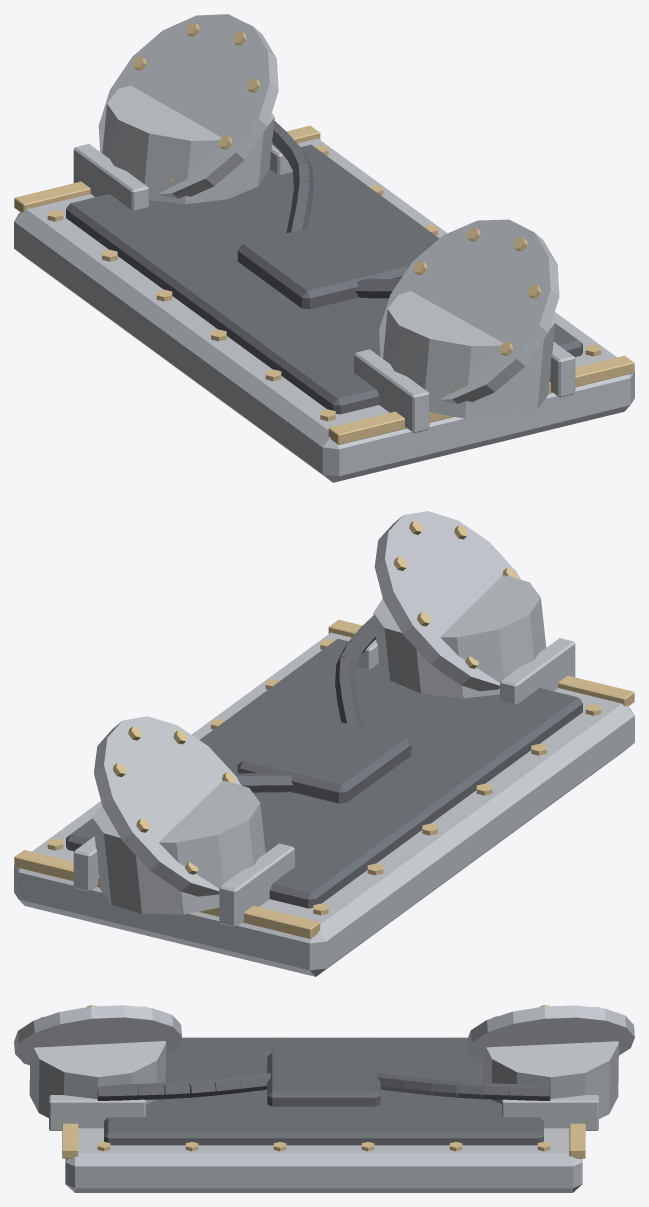
The model's file is bastion.saddle.glb.
3 views of the same model, one above another, from view 1: azimuth 30°, elevation 25°; view 2: azimuth 150°, elevation 25°; view 3: azimuth 270°, elevation 25° (orthographic). The views are drawn at different scales.
Bounding box in the file's own units: 1.8 × 1.06 × 3.84.
